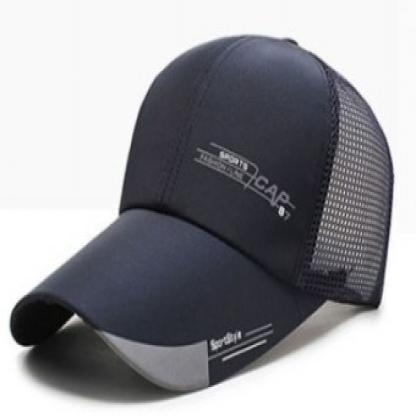cap: (3, 28, 398, 394)
